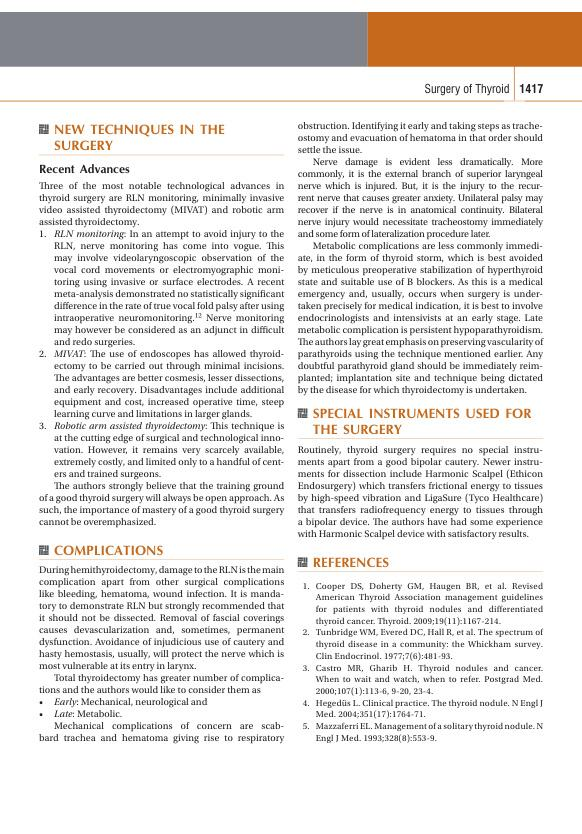header: (423, 82, 510, 96)
list: (299, 575, 545, 744)
section-heading: (310, 405, 533, 436), (52, 121, 227, 153), (53, 542, 165, 557), (311, 556, 391, 569)
sub-section-heading: (39, 163, 131, 175)
text: (35, 178, 287, 531), (297, 120, 546, 398), (36, 562, 285, 745), (296, 443, 545, 541)
